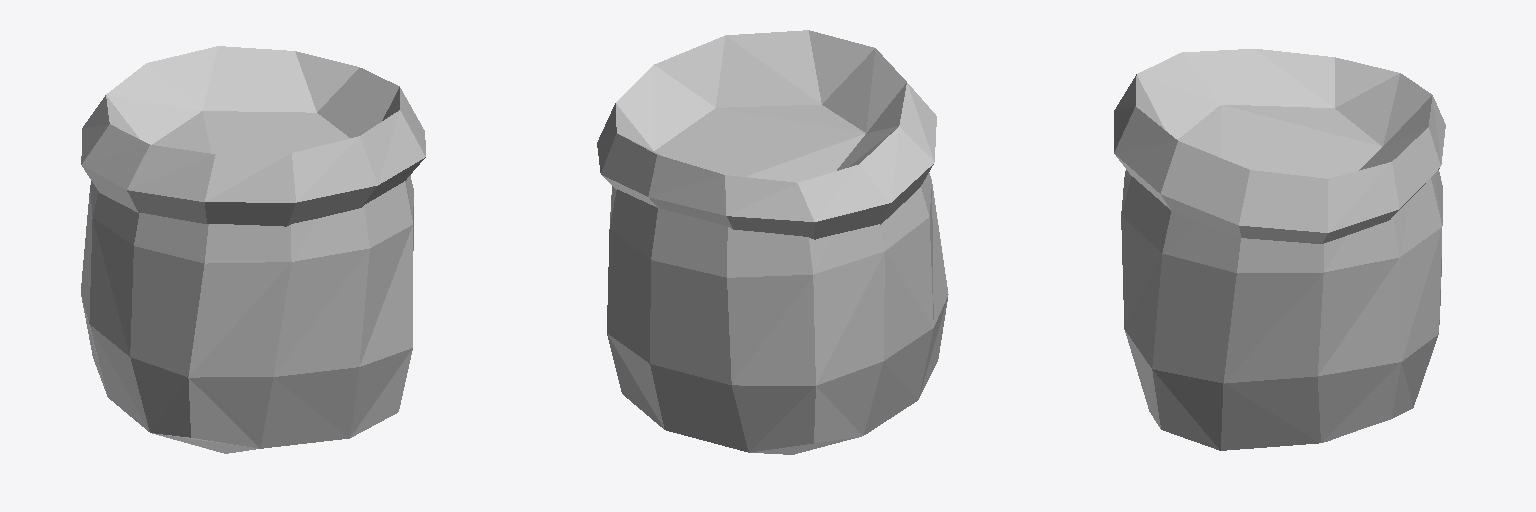
The model's file is bag_001.obj.
3 views of the same model, side by side, from view 1: azimuth 30°, elevation 25°; view 2: azimuth 150°, elevation 25°; view 3: azimuth 270°, elevation 25° (orthographic).
Parts seen in each view (by area): view 1: bag_001; view 2: bag_001; view 3: bag_001.
Part boxes in pixels (bbox=[...]): bag_001: bbox=[81, 46, 425, 453]; bag_001: bbox=[597, 30, 948, 454]; bag_001: bbox=[1114, 49, 1445, 450].
Size of the model in its own units: 0.5379 by 0.5712 by 0.5199.